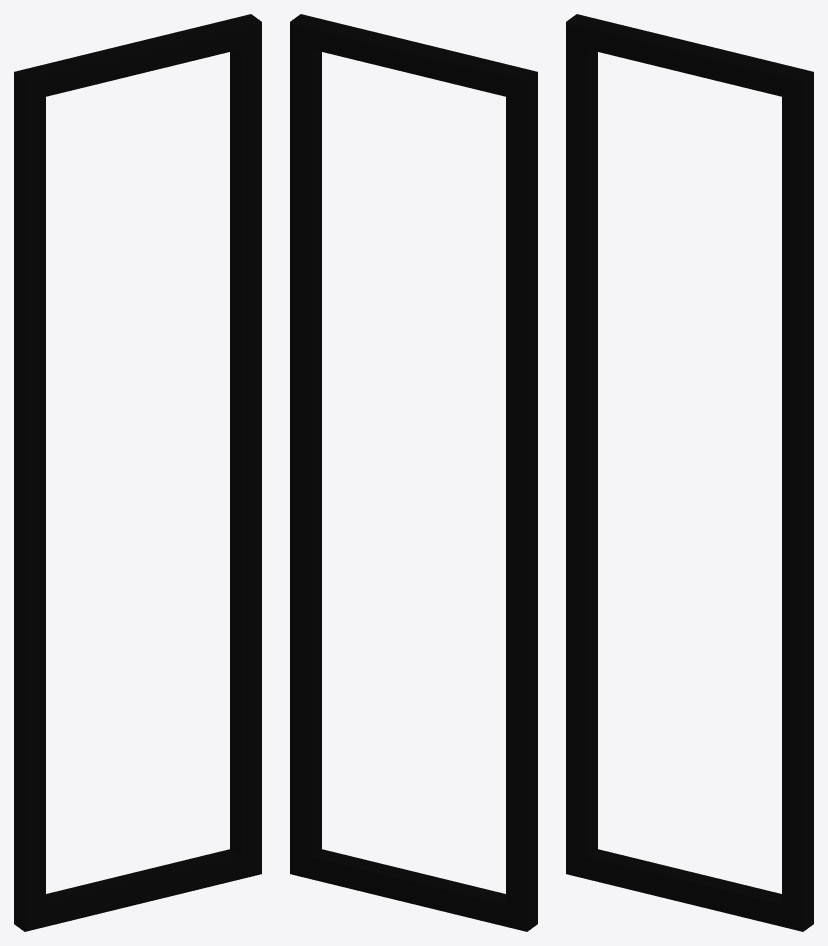
Rendered from Window Panel.001.gltf.
3 renders of one model, left to right at view 1: azimuth 30°, elevation 25°; view 2: azimuth 150°, elevation 25°; view 3: azimuth 330°, elevation 25°, orthographic.
Visible parts, largest first — view 1: Window Panel.001; view 2: Window Panel.001; view 3: Window Panel.001.
Part boxes in pixels (x1=…): Window Panel.001: x1=14, y1=14, x2=261, y2=931; Window Panel.001: x1=290, y1=14, x2=537, y2=931; Window Panel.001: x1=566, y1=14, x2=813, y2=931.
Size of the model in its own units: 0.6667 by 2.29 by 0.06.
1 material, 1 textured.
